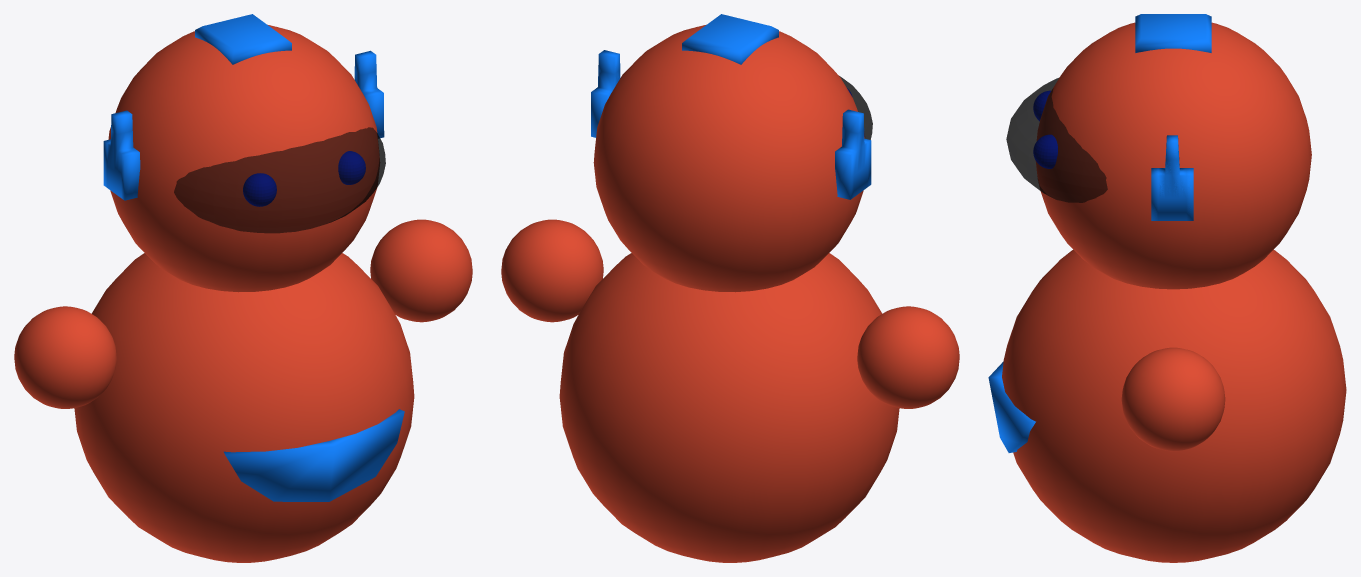
File: mixtral.glb
The picture shows the model from 3 angles, left to right: view 1: azimuth 30°, elevation 25°; view 2: azimuth 150°, elevation 25°; view 3: azimuth 270°, elevation 25°; orthographic projection.
Visible parts, largest first — view 1: Body, Face, Plane.004, Arm_-1, Arm_1, eye2; view 2: Body, Face, Arm_-1, Arm_1; view 3: Body, Face, Arm_1, Plane.004, eye2.
Part boxes in pixels (bbox=[...]): Body: bbox=[74, 253, 414, 562]; Face: bbox=[103, 14, 385, 292]; Plane.004: bbox=[224, 409, 404, 501]; Arm_-1: bbox=[14, 306, 116, 408]; Arm_1: bbox=[370, 219, 472, 322]; eye2: bbox=[243, 151, 365, 206]; Body: bbox=[559, 253, 899, 562]; Face: bbox=[591, 14, 872, 292]; Arm_-1: bbox=[857, 306, 959, 408]; Arm_1: bbox=[501, 219, 603, 322]; Body: bbox=[1002, 249, 1346, 562]; Face: bbox=[1006, 14, 1311, 289]; Arm_1: bbox=[1121, 347, 1225, 451]; Plane.004: bbox=[988, 361, 1035, 452]; eye2: bbox=[1033, 91, 1057, 168].
Bounding box in the file's own units: 3 × 3.32 × 2.07.
